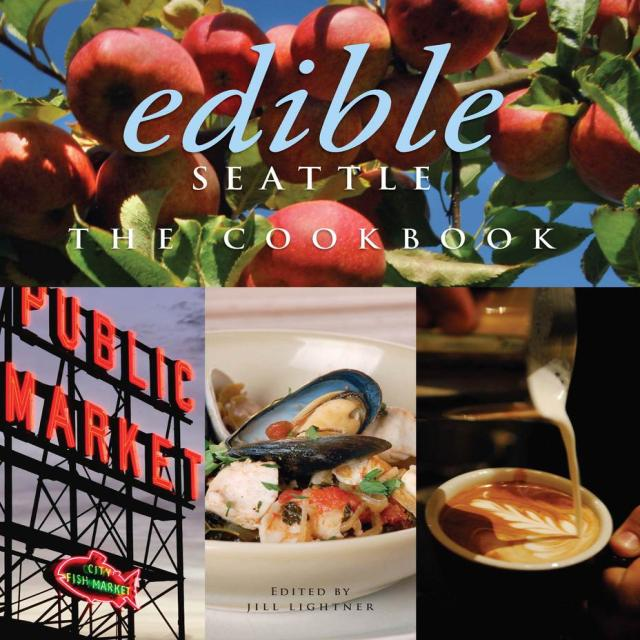Healty Apple: (0, 0, 640, 287), (241, 201, 398, 286)
